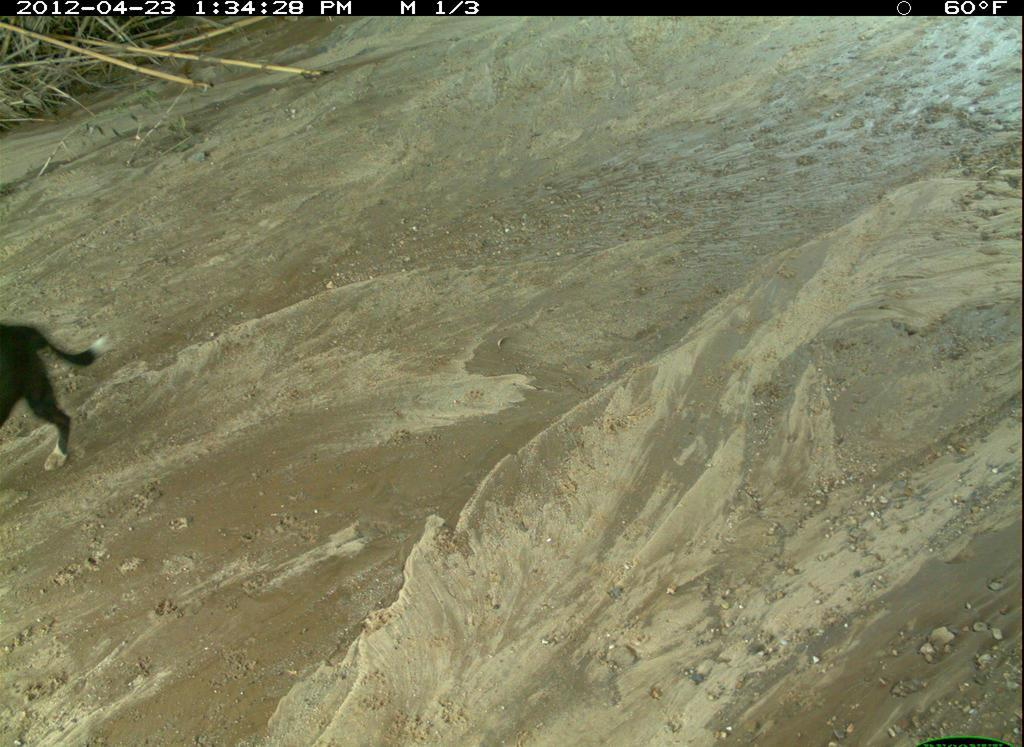dog: (3, 638, 233, 747)
